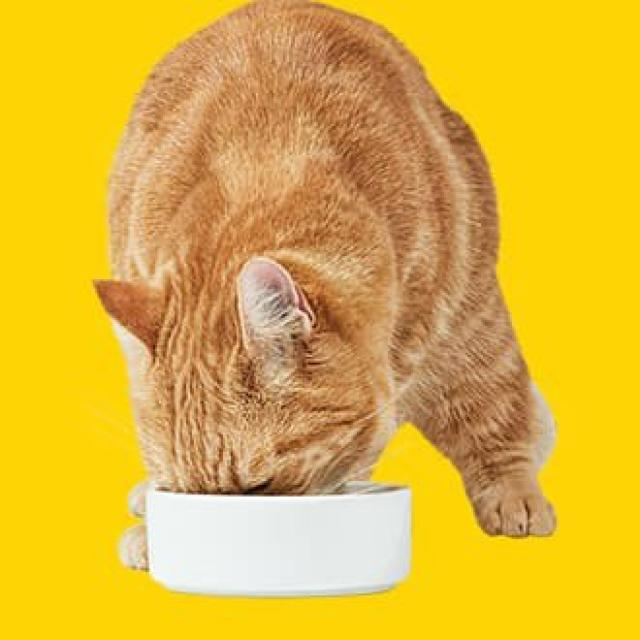cat: (145, 244, 379, 488)
